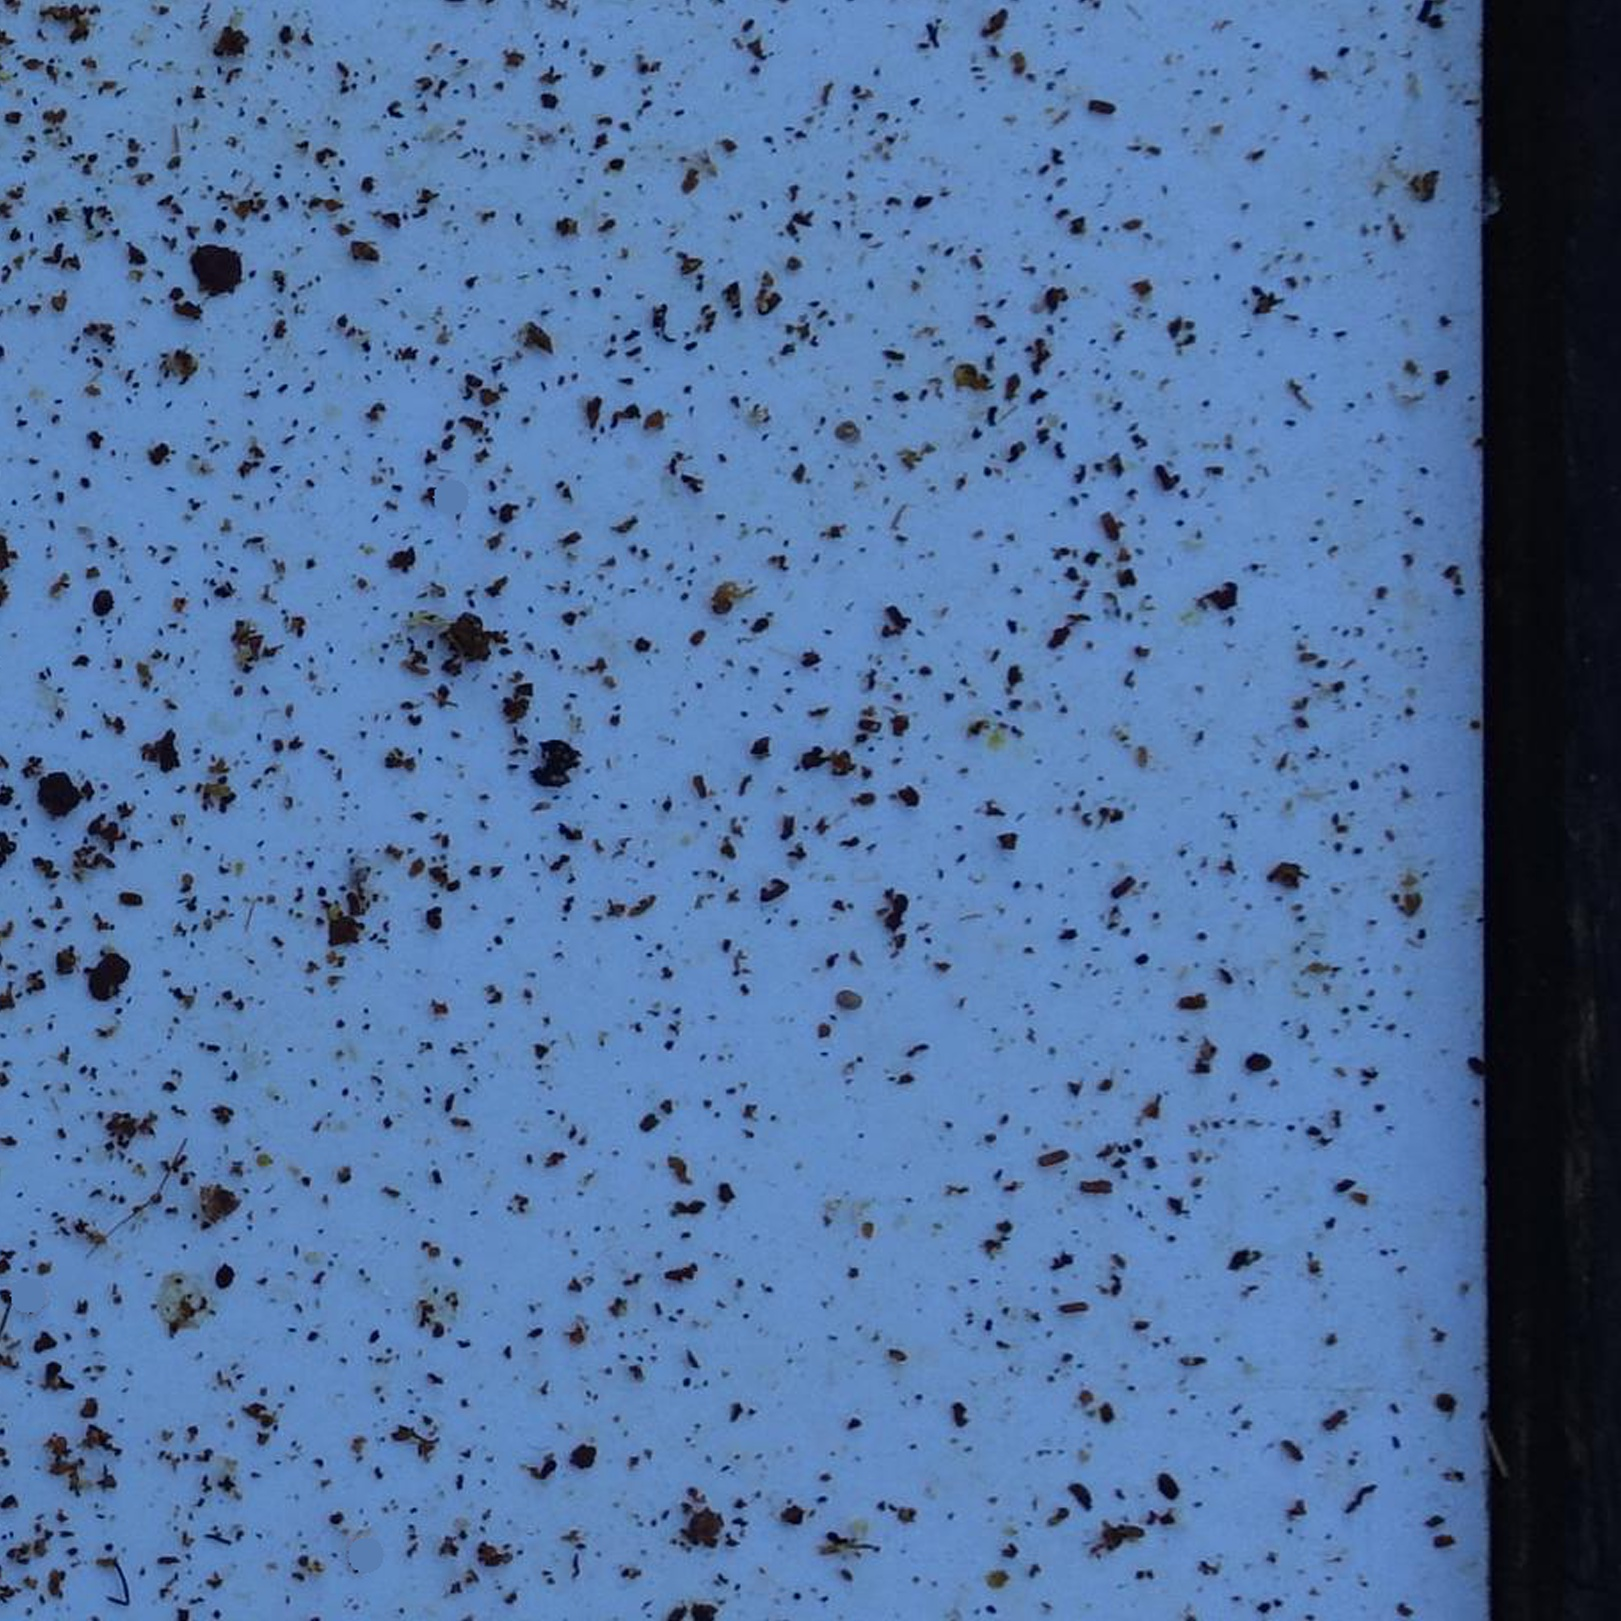Varroa: (1242, 1047, 1274, 1078), (88, 580, 117, 613), (834, 980, 864, 1009), (1156, 1471, 1183, 1501), (205, 1257, 232, 1286)
